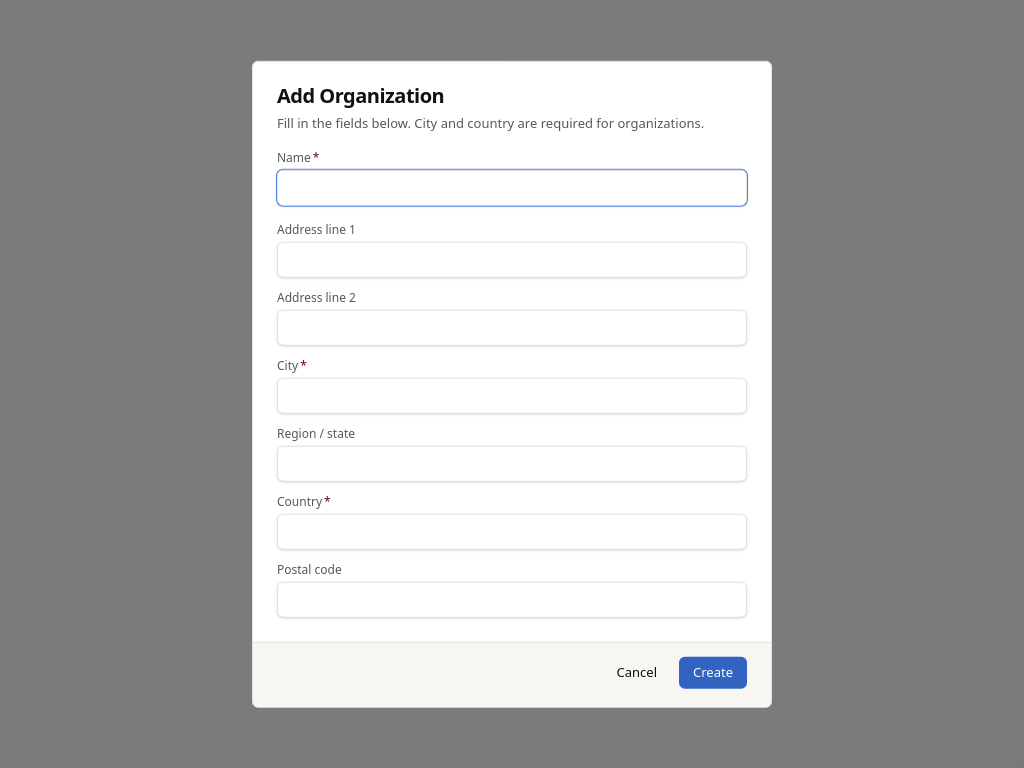
Test: EntityForm › organization: create › shows inline field error on 422 response
Step 1. Type "X" into the field labelled "Name*" → (512, 187), box x1=277 y1=169 x2=747 y2=205
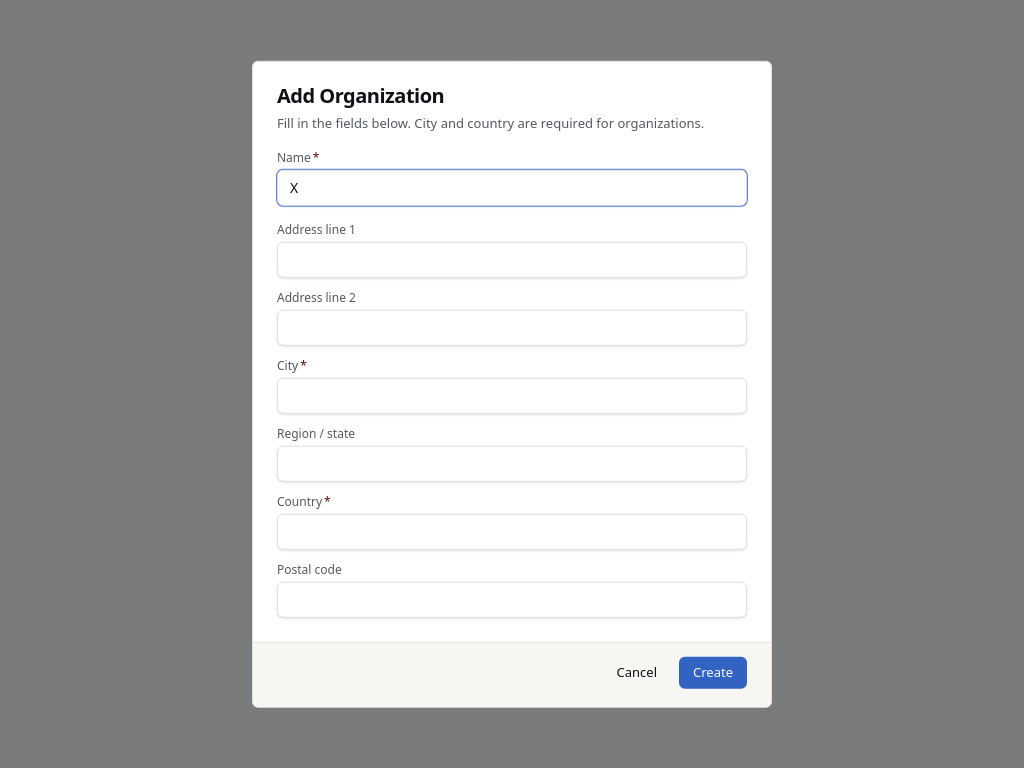
Step 2. Type "Kampala" into the field labelled "City*" → (512, 395), box x1=277 y1=377 x2=747 y2=413
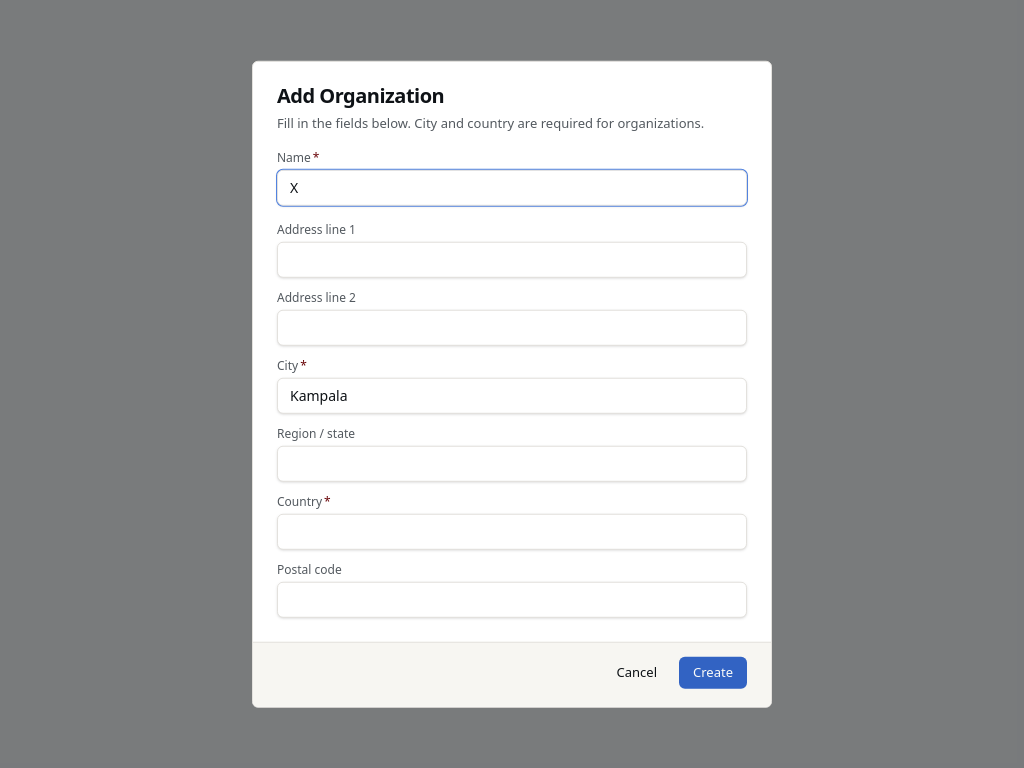
Step 3. Type "Uganda" into the field labelled "Country*" → (512, 531), box x1=277 y1=513 x2=747 y2=549
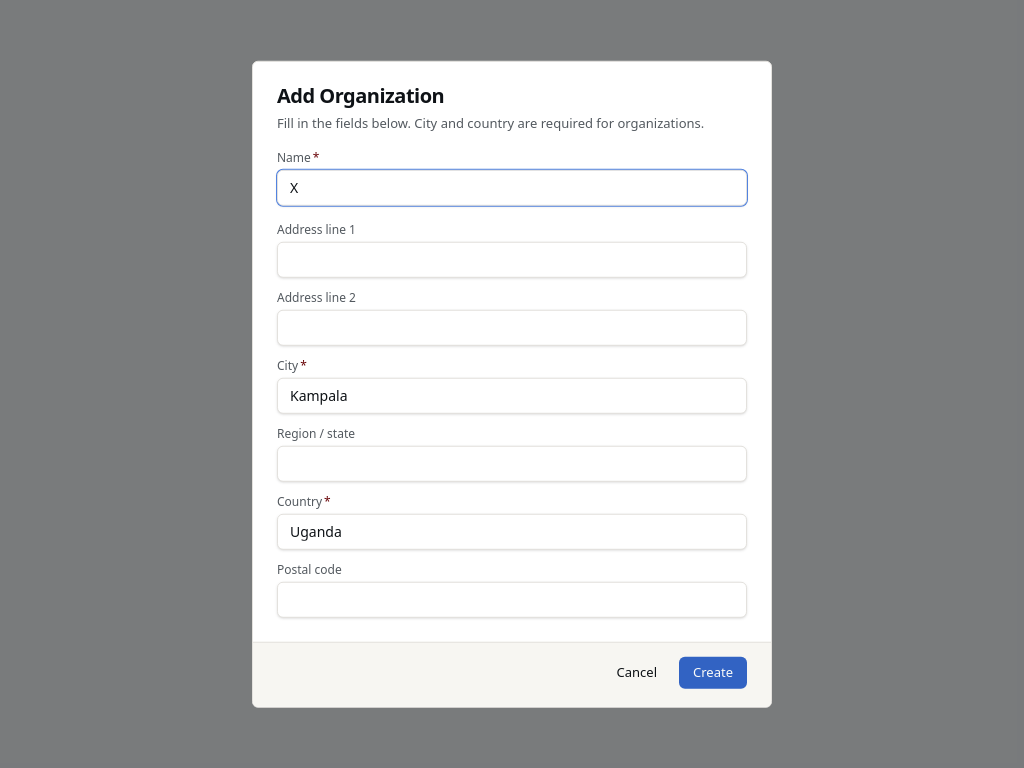
Step 4. Click the button "Create" → (713, 672), box x1=679 y1=656 x2=747 y2=688
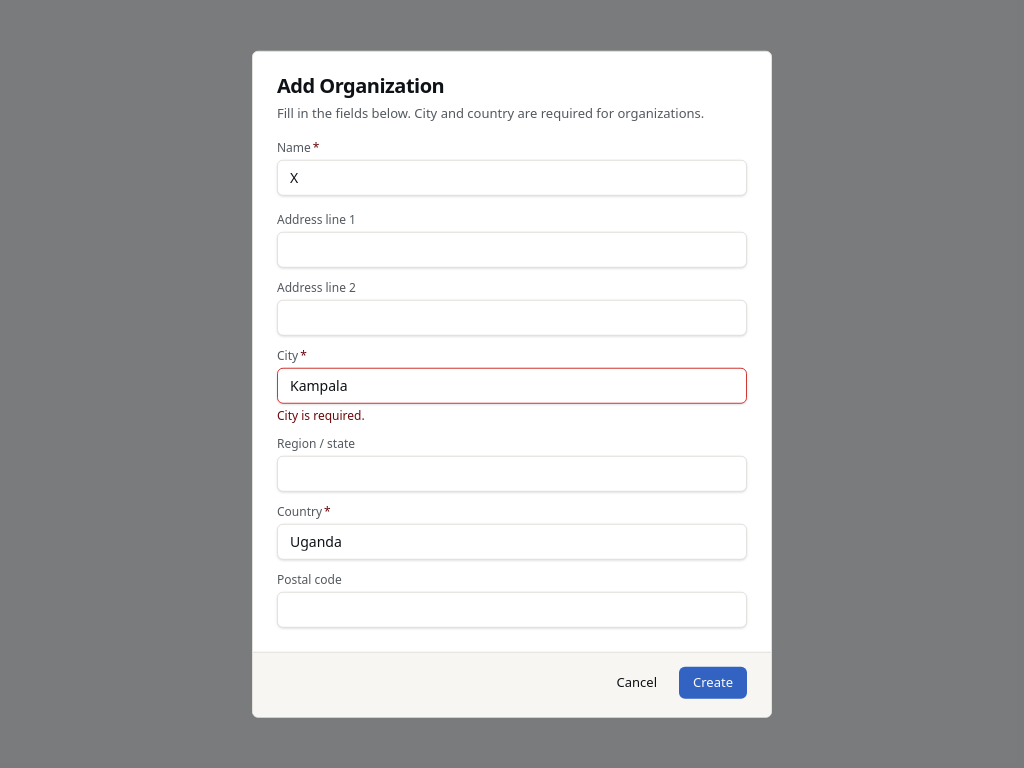
Now the message "City is required." is shown, box x1=277 y1=406 x2=365 y2=423
